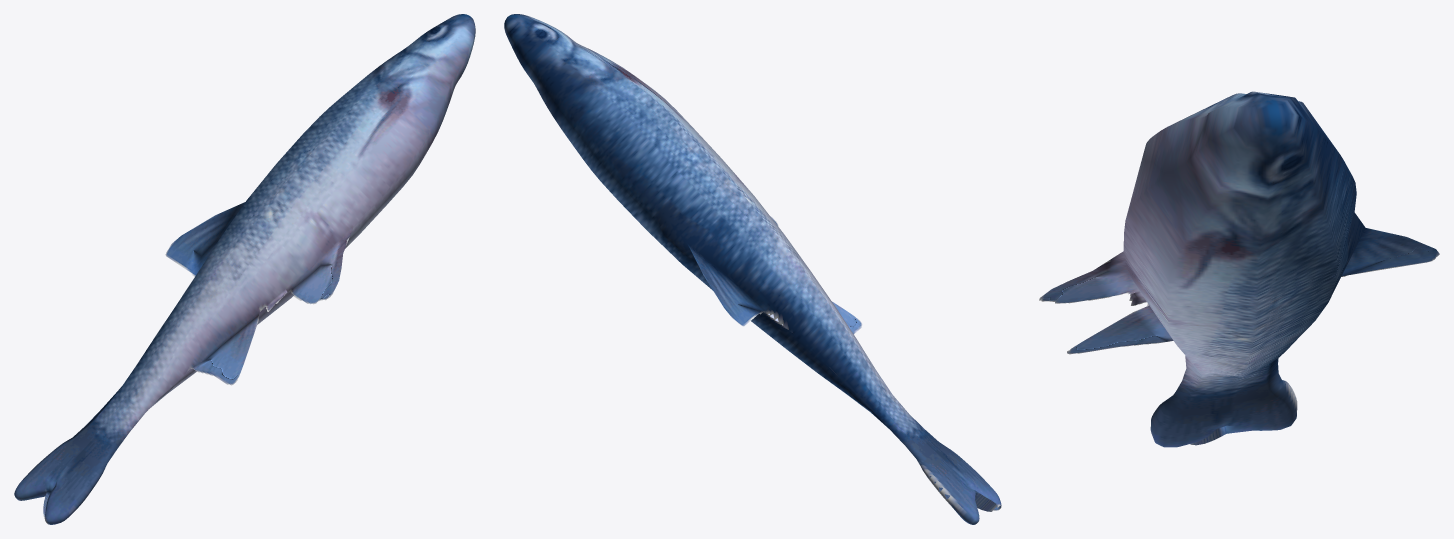
File: fish.fbx
3 views of the same model, side by side, from view 1: azimuth 30°, elevation 25°; view 2: azimuth 150°, elevation 25°; view 3: azimuth 270°, elevation 25° (orthographic). The views are drawn at different scales.
Parts seen in each view (by area): view 1: Fish; view 2: Fish; view 3: Fish.
Part boxes in pixels (x1,y1,x2,y2): Fish: (14, 14, 475, 524); Fish: (504, 14, 1001, 524); Fish: (1039, 91, 1439, 447).
Bounding box in the file's own units: 36.11 × 74.81 × 92.54.
Materials: 1 (1 with a texture image).
